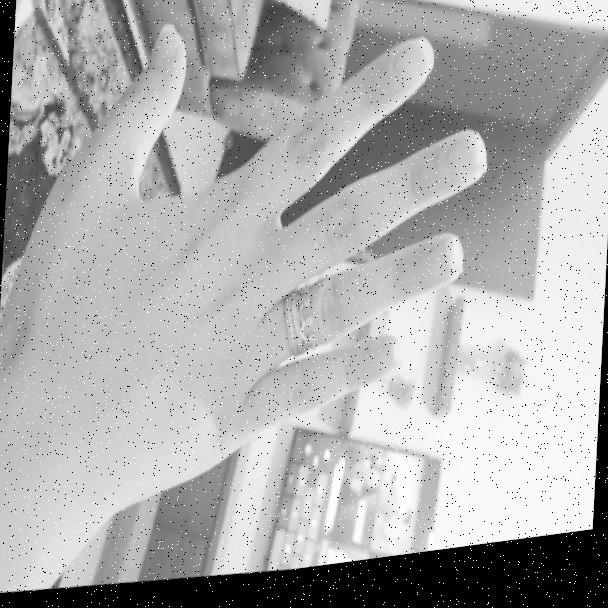five: (18, 0, 503, 487)
